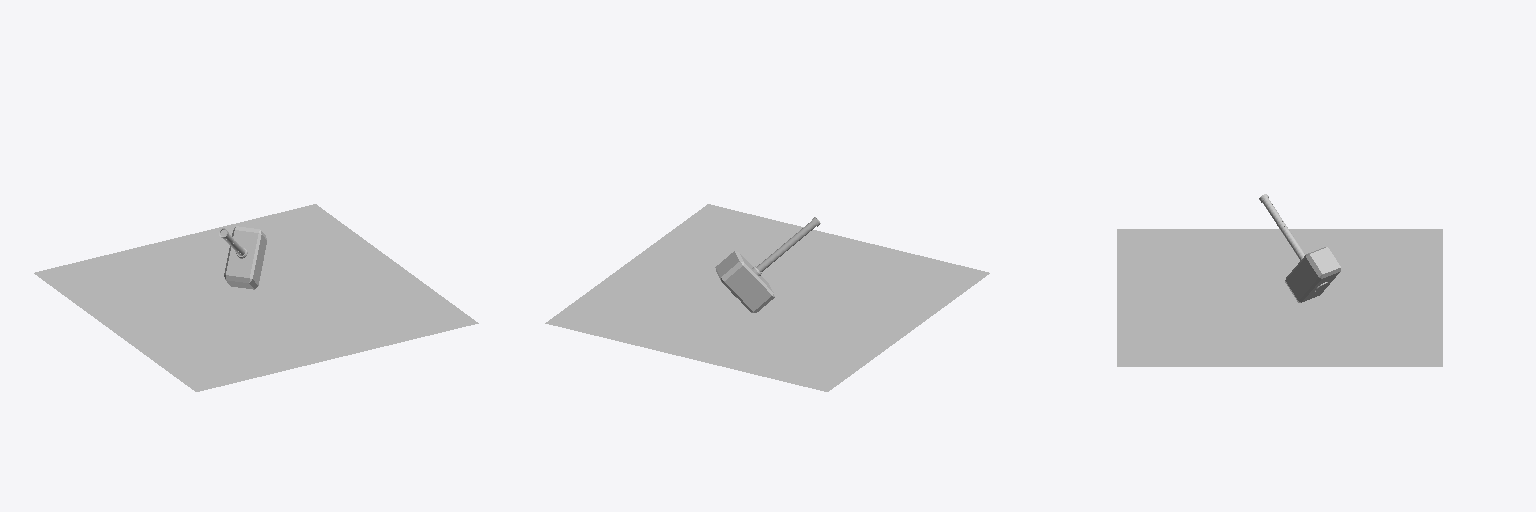
Rendered from martillothor.obj.
3 views of the same model, side by side, from view 1: azimuth 30°, elevation 25°; view 2: azimuth 150°, elevation 25°; view 3: azimuth 270°, elevation 25° (orthographic).
Parts seen in each view (by area): view 1: Plano, Cubo; view 2: Plano, Cubo, Cilindro; view 3: Plano, Cubo, Cilindro.
Boxes of the visible parts, x1=… form: Plano: x1=34, y1=204, x2=478, y2=391; Cubo: x1=224, y1=226, x2=266, y2=289; Plano: x1=545, y1=204, x2=989, y2=391; Cubo: x1=715, y1=251, x2=774, y2=312; Cilindro: x1=756, y1=217, x2=820, y2=271; Plano: x1=1117, y1=229, x2=1442, y2=366; Cubo: x1=1285, y1=247, x2=1340, y2=302; Cilindro: x1=1259, y1=194, x2=1304, y2=259.
Size of the model in its own units: 16.28 by 4.71 by 16.28.